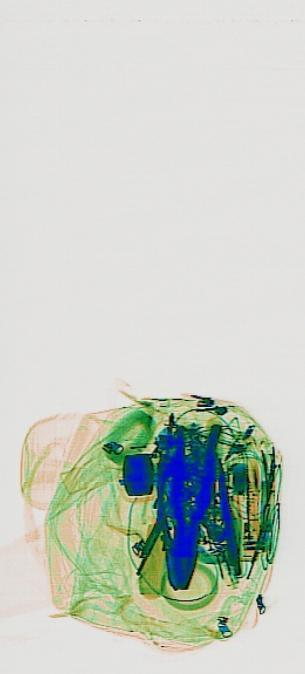Pliers: (164, 413, 221, 598)
